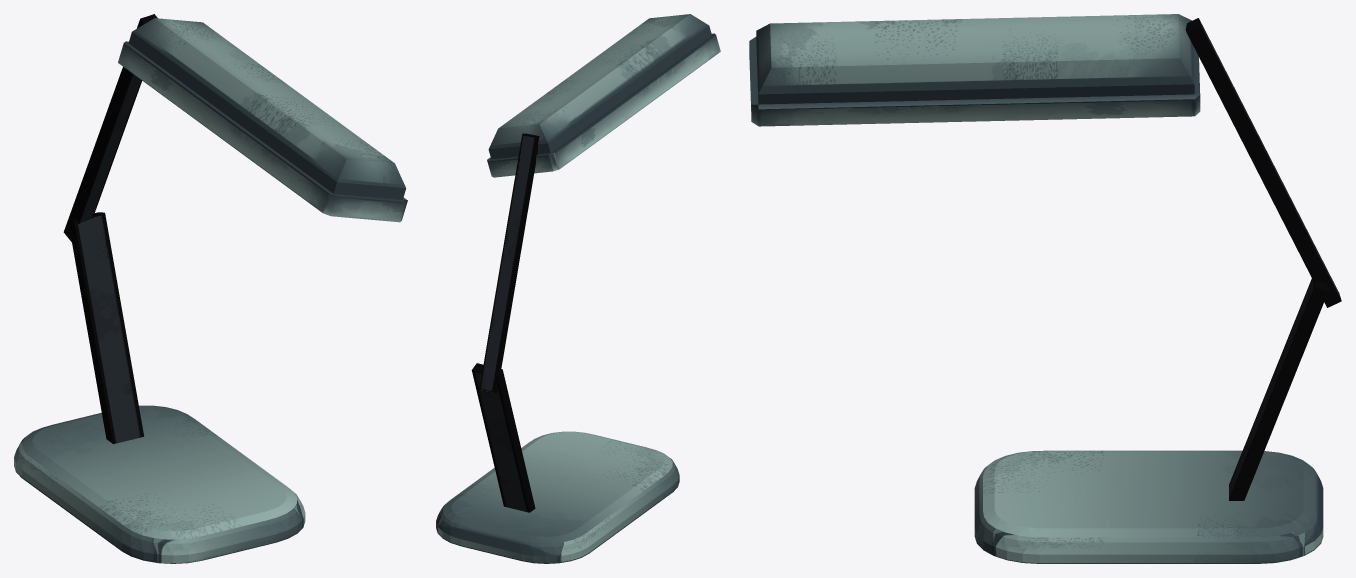
The model's file is TableLamp.fbx.
3 views of the same model, side by side, from view 1: azimuth 30°, elevation 25°; view 2: azimuth 150°, elevation 25°; view 3: azimuth 270°, elevation 25° (orthographic). The views are drawn at different scales.
Parts seen in each view (by area): view 1: TableLampDownMesh, TableLampUpMesh, TableLampMiddleMesh, TableLampMiddleMesh001; view 2: TableLampDownMesh, TableLampUpMesh, TableLampMiddleMesh001, TableLampMiddleMesh; view 3: TableLampUpMesh, TableLampDownMesh, TableLampMiddleMesh001, TableLampMiddleMesh.
Boxes of the visible parts, box(x1,y1,x2,y2) form: TableLampDownMesh: box(14, 405, 305, 563); TableLampUpMesh: box(118, 18, 407, 222); TableLampMiddleMesh: box(68, 212, 144, 443); TableLampMiddleMesh001: box(63, 14, 157, 241); TableLampDownMesh: box(436, 431, 679, 563); TableLampUpMesh: box(487, 14, 720, 177); TableLampMiddleMesh001: box(479, 133, 539, 393); TableLampMiddleMesh: box(471, 363, 535, 512); TableLampUpMesh: box(749, 14, 1200, 126); TableLampDownMesh: box(974, 450, 1323, 563); TableLampMiddleMesh001: box(1185, 18, 1341, 307); TableLampMiddleMesh: box(1229, 278, 1328, 500).
Bounding box in the file's own units: 37.1 × 93.57 × 99.01.
4 materials, 4 textured.
